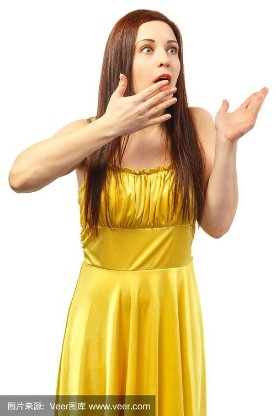张嘴: (153, 69, 177, 96)
